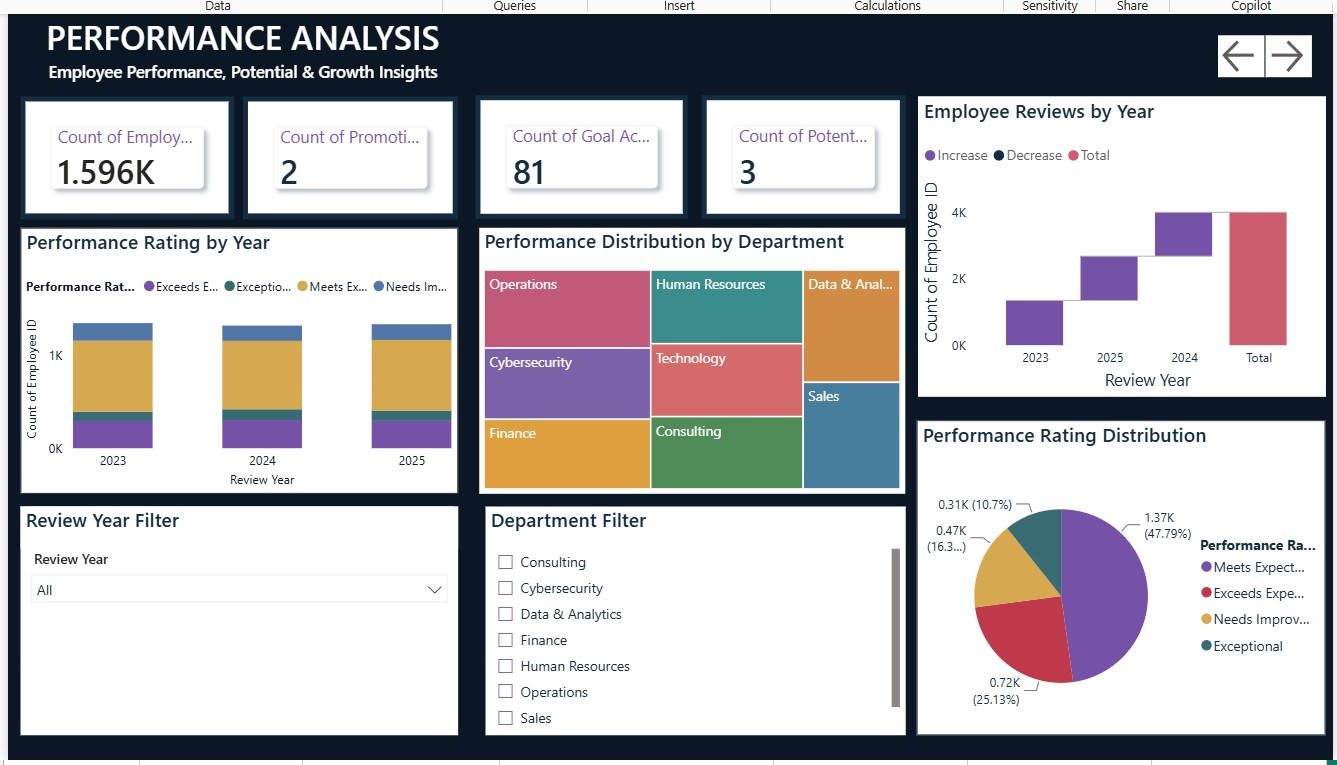

Layout of this report page (visuals, bound fields, positions):
{"tool":"powerbi","page":{"name":"Performance Analysis","canvas":[1280,720],"ordinal":2},"visuals":[{"type":"textbox","title":"PERFORMANCE ANALYSIS","box":[0,0,453.6,39.8],"z":0},{"type":"textbox","box":[27.7,39.8,398.1,30.2],"z":1000},{"type":"cardVisual","fields":{"Data":["Count(Performance_Raw.Goal Achievement %)"]},"box":[451.2,78.4,205.1,119.4],"z":2000},{"type":"cardVisual","fields":{"Data":["Count(Performance_Raw.Employee ID)"]},"box":[12.1,79.6,206.3,118.2],"z":3000},{"type":"cardVisual","fields":{"Data":["Count(Performance_Raw.Promotion Recommended)"]},"box":[226.8,79.6,207.5,118.2],"z":4000},{"type":"cardVisual","fields":{"Data":["Count(Performance_Raw.Potential Rating)"]},"box":[669.6,78.4,196.6,119.4],"z":5000},{"type":"columnChart","title":"Performance Rating by Year","fields":{"Category":["Performance_Raw.Review Year"],"Y":["CountNonNull(Performance_Raw.Employee ID)"],"Series":["Performance_Raw.Performance Rating"]},"box":[12.1,206.3,422.3,257],"z":6000},{"type":"treemap","title":"Performance Distribution by Department","fields":{"Group":["Employee_Master_Raw.Department"],"Values":["Count(Performance_Raw.Employee ID)"]},"box":[454.8,206.3,411.4,257],"z":7000},{"type":"waterfallChart","title":"Employee Reviews by Year","fields":{"Category":["Performance_Raw.Review Year"],"Y":["CountNonNull(Performance_Raw.Employee ID)"]},"box":[878.3,79.6,393.3,289.5],"z":8000},{"type":"pieChart","title":"Performance Rating Distribution","fields":{"Category":["Performance_Raw.Performance Rating"],"Y":["Count(Performance_Raw.Employee ID)"]},"box":[877.1,392.1,394.5,304],"z":9000},{"type":"slicer","title":"Department Filter","fields":{"Values":["Employee_Master_Raw.Department"]},"box":[460.9,475.3,405.4,220.8],"z":10000},{"type":"slicer","title":"Review Year Filter","fields":{"Values":["Performance_Raw.Review Year"]},"box":[12.1,475.3,422.3,220.8],"z":11000},{"type":"actionButton","box":[1213.2,20.2,44.8,40.5],"z":12000},{"type":"actionButton","box":[1168.4,20.2,44.8,40.5],"z":13000}]}

Visuals, with their boxes in screenshot pixels (x1, y1, x2, y2):
"PERFORMANCE ANALYSIS" textbox: locate(10, 14, 478, 55)
textbox: locate(39, 55, 449, 86)
cardVisual - Count(Performance_Raw.Goal Achievement %): locate(475, 95, 686, 218)
cardVisual - Count(Performance_Raw.Employee ID): locate(23, 96, 235, 218)
cardVisual - Count(Performance_Raw.Promotion Recommended): locate(244, 96, 458, 218)
cardVisual - Count(Performance_Raw.Potential Rating): locate(700, 95, 903, 218)
"Performance Rating by Year" columnChart: locate(23, 226, 458, 491)
"Performance Distribution by Department" treemap: locate(479, 226, 903, 491)
"Employee Reviews by Year" waterfallChart: locate(915, 96, 1320, 394)
"Performance Rating Distribution" pieChart: locate(914, 418, 1320, 731)
"Department Filter" slicer: locate(485, 504, 903, 731)
"Review Year Filter" slicer: locate(23, 504, 458, 731)
actionButton: locate(1260, 35, 1306, 76)
actionButton: locate(1214, 35, 1260, 76)
